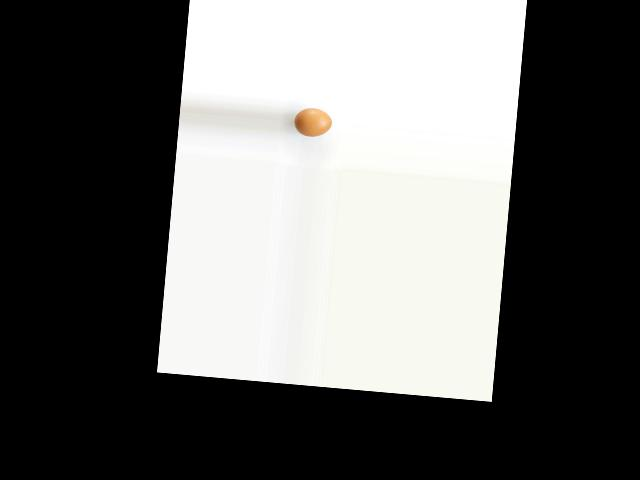egg: (292, 107, 333, 139)
